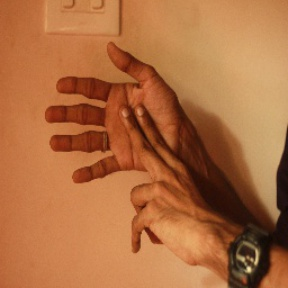N: (43, 38, 195, 250)
